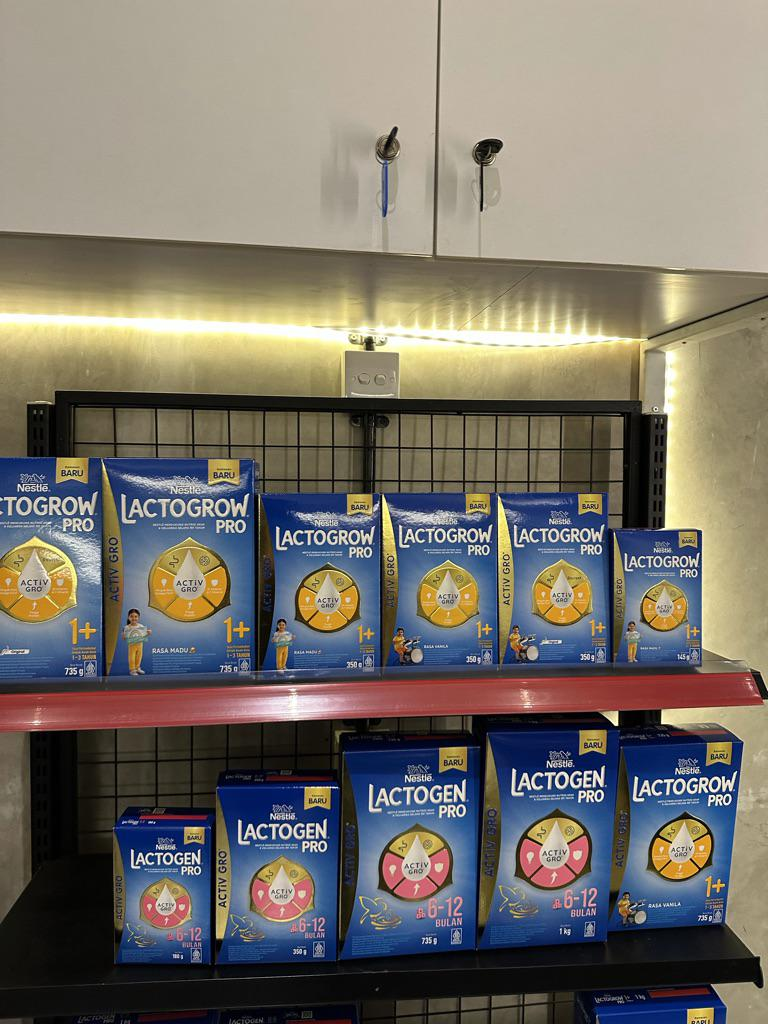LACTOGEN PRO 6-12 mo 12x1kg ID: (476, 730, 612, 946)
LACTOGEN PRO 6-12 mo 12x735g ID: (338, 744, 479, 954), (212, 783, 338, 963)
LACTOGEN PRO 6-12 mo 24x350g ID: (213, 783, 339, 964)
LACTOGEN PRO 6-12 mo 40x180g ID: (112, 821, 213, 966)
LACTOGROW PRO 1+ Honey 24x350g ID: (255, 490, 385, 683)
LACTOGROW PRO 1+ Honey 40x145g ID: (611, 528, 706, 671)
